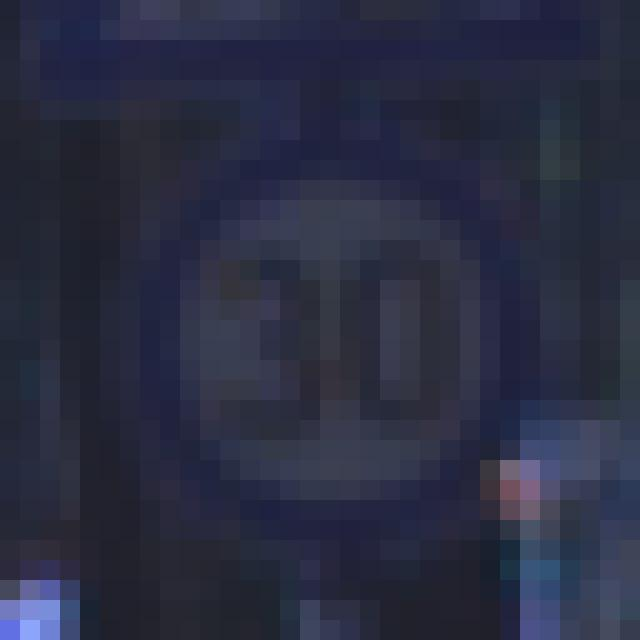SPEED LIMIT 30: (130, 148, 530, 550)
